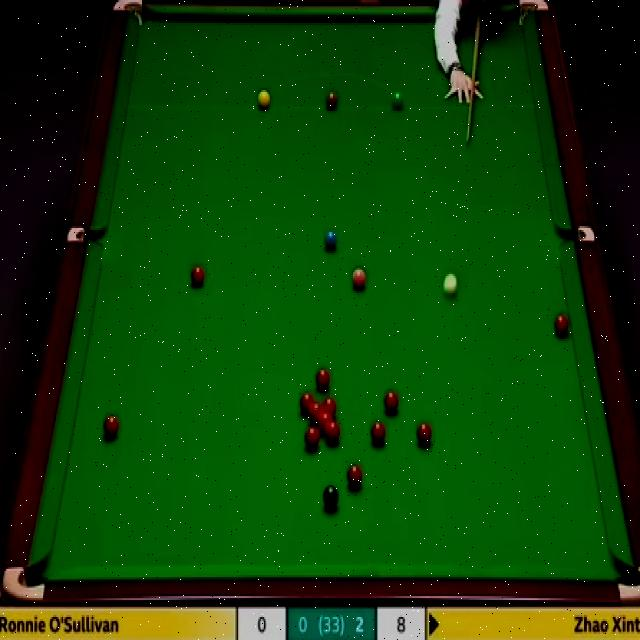black-ball: (323, 482, 340, 512)
blue-ball: (323, 229, 338, 253)
brown-ball: (325, 90, 338, 110)
green-ball: (390, 89, 404, 111)
pink-ball: (348, 265, 368, 294)
red-ball: (553, 312, 572, 342), (345, 462, 365, 490), (101, 414, 119, 439), (416, 423, 433, 448), (189, 266, 207, 289), (369, 422, 386, 446), (383, 390, 400, 414), (296, 390, 311, 416), (324, 422, 340, 446), (315, 369, 331, 392), (304, 427, 320, 449), (308, 402, 324, 422), (321, 397, 337, 417), (317, 411, 332, 431)
white-ball: (441, 271, 459, 296)
yellow-ball: (258, 90, 270, 111)
